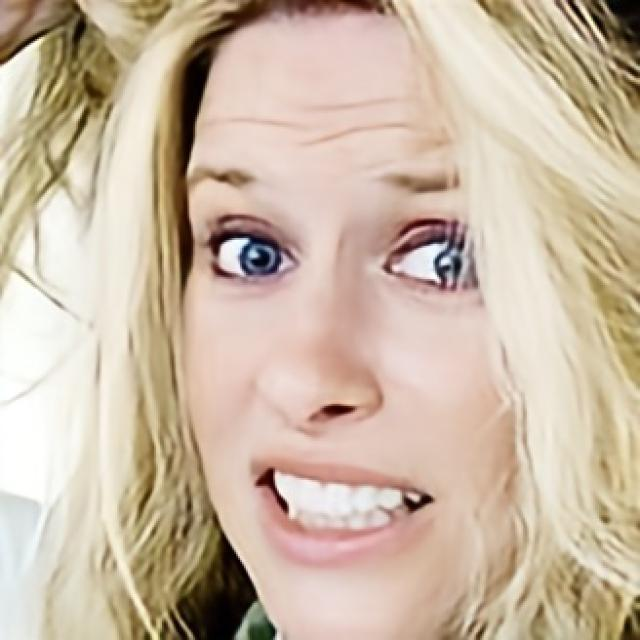fear: (178, 7, 554, 640)
